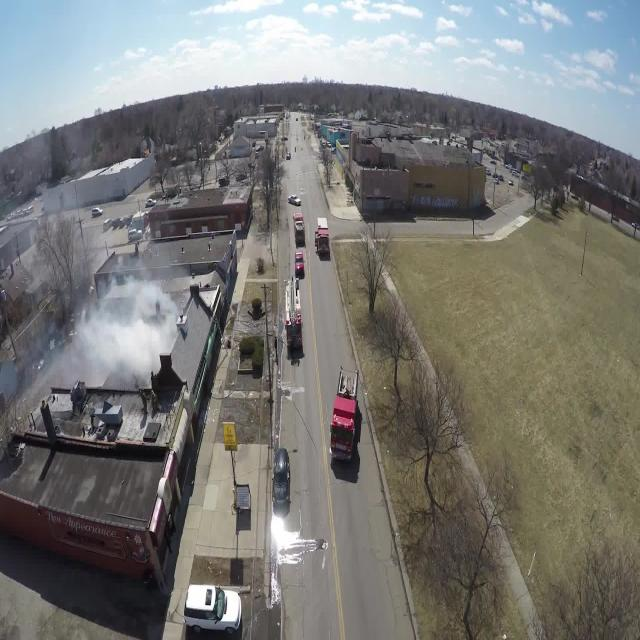Smoke: (72, 279, 174, 396)
